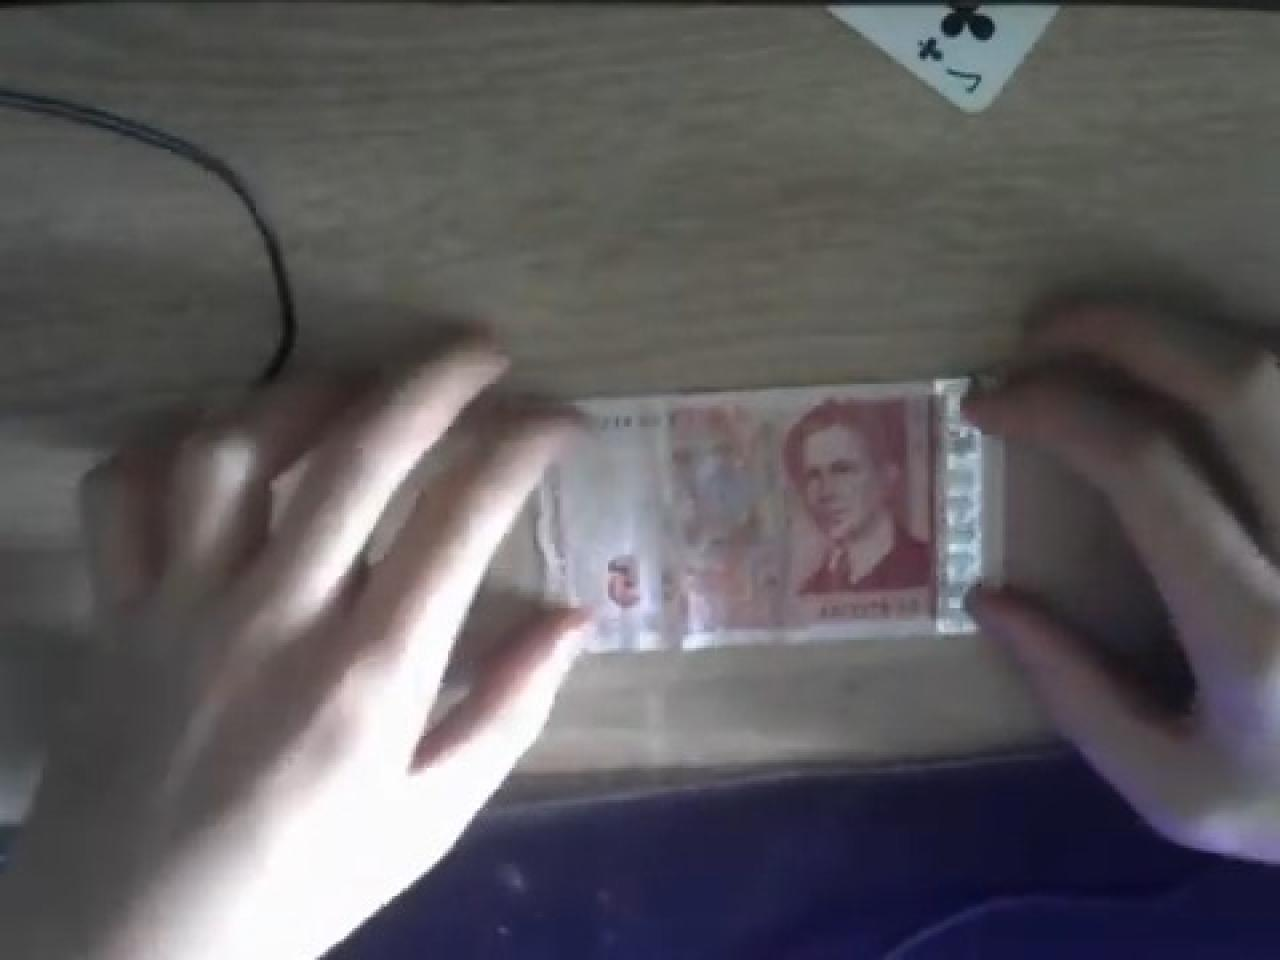5leva: (536, 394, 928, 645)
